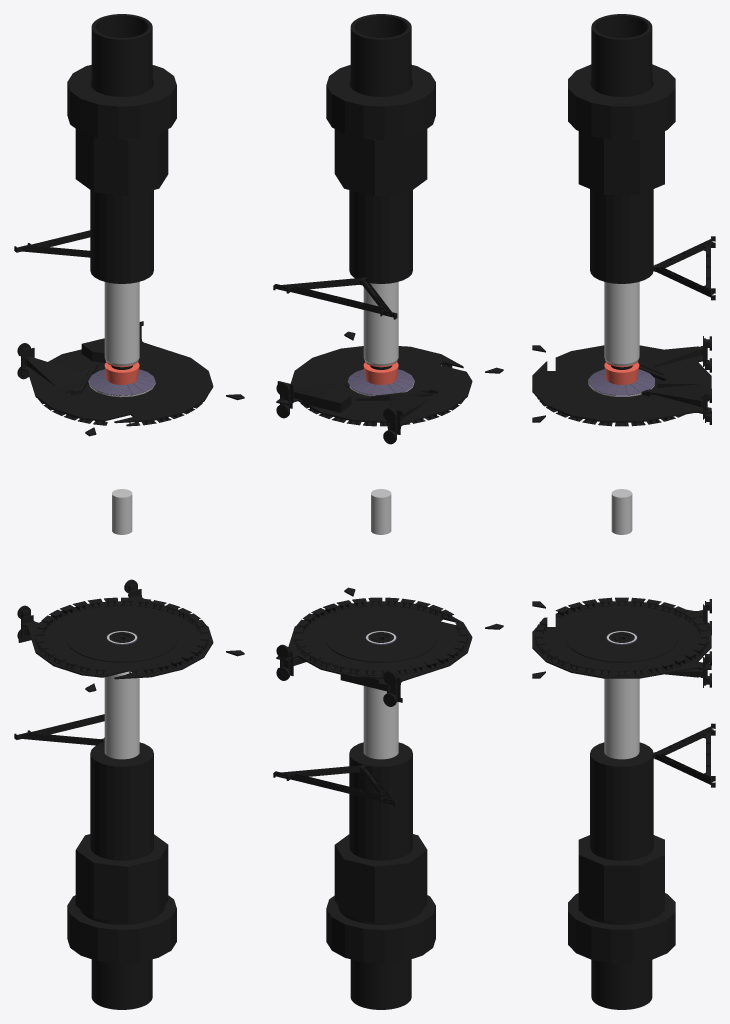
File: rmuonmiscshield.fbx
The picture shows the model from 3 angles, left to right: view 1: azimuth 30°, elevation 25°; view 2: azimuth 150°, elevation 25°; view 3: azimuth 270°, elevation 25°; orthographic projection.
Visible parts, largest first — view 1: /tmp/importOpenSceneGraph664bc/RMuonMiscShield.wrl_Group_Gro (×16); view 2: /tmp/importOpenSceneGraph664bc/RMuonMiscShield.wrl_Group_Gro (×17); view 3: /tmp/importOpenSceneGraph664bc/RMuonMiscShield.wrl_Group_Gro (×17).
Boxes of the visible parts, x1=… form: /tmp/importOpenSceneGraph664bc/RMuonMiscShield.wrl_Group_Gro (×16): x1=21, y1=14, x2=244, y2=1009; /tmp/importOpenSceneGraph664bc/RMuonMiscShield.wrl_Group_Gro (×17): x1=276, y1=14, x2=503, y2=1009; /tmp/importOpenSceneGraph664bc/RMuonMiscShield.wrl_Group_Gro (×17): x1=532, y1=14, x2=711, y2=1009.
Bounding box in the file's own units: 8720 × 52090 × 8925.
